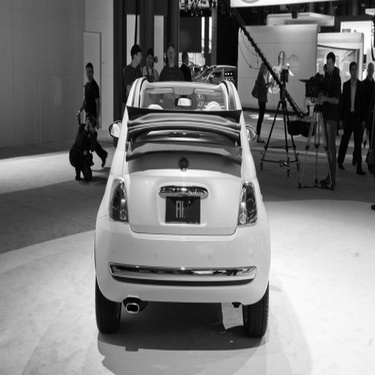car: (79, 68, 277, 347)
